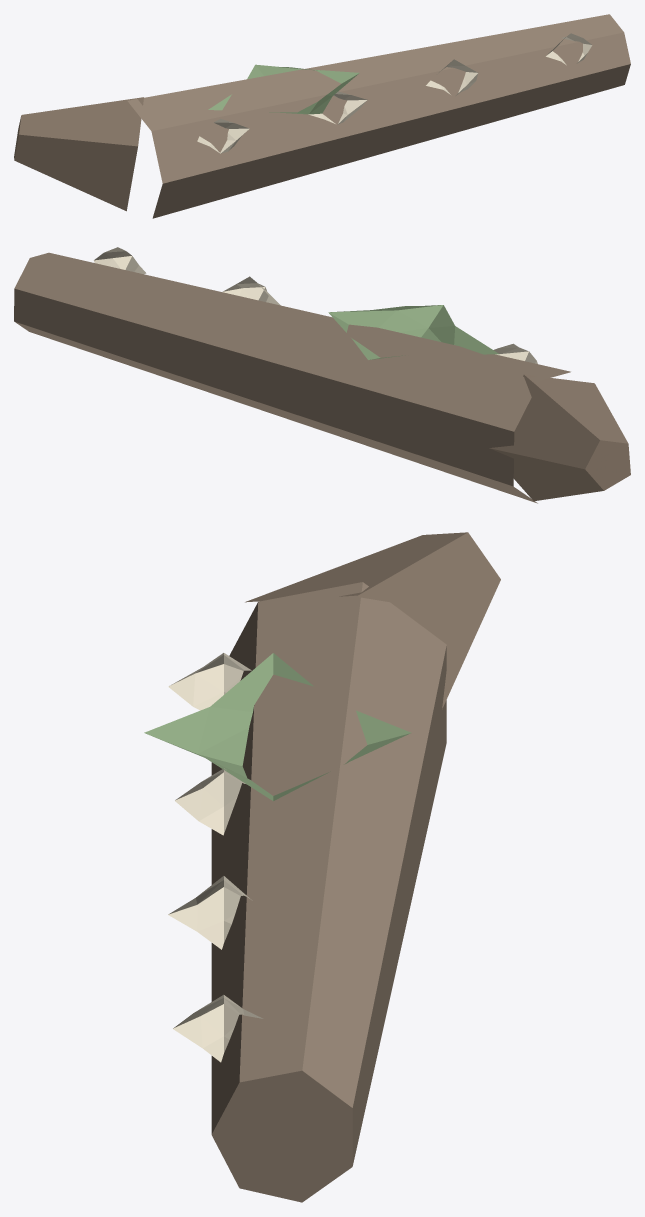
The model's file is log_v38.glb.
3 renders of one model, top to bottom at view 1: azimuth 30°, elevation 25°; view 2: azimuth 150°, elevation 25°; view 3: azimuth 270°, elevation 25°, orthographic. The views are drawn at different scales.
Parts seen in each view (by area): view 1: lod0; view 2: lod0; view 3: lod0.
Boxes of the visible parts, x1=… form: lod0: x1=14, y1=14, x2=630, y2=218; lod0: x1=14, y1=247, x2=630, y2=503; lod0: x1=144, y1=532, x2=500, y2=1202.
Size of what is drawn, in the model's own units: 2.95 by 0.6248 by 0.8079.
